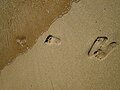human_foot_print: (94, 42, 118, 61), (88, 36, 108, 57), (44, 35, 60, 44)
